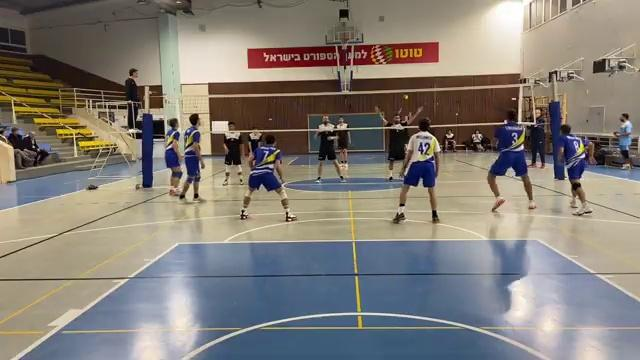ball: (401, 92, 414, 104)
